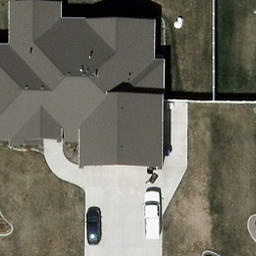car: (87, 209, 104, 245)
pickup: (144, 191, 162, 241)
